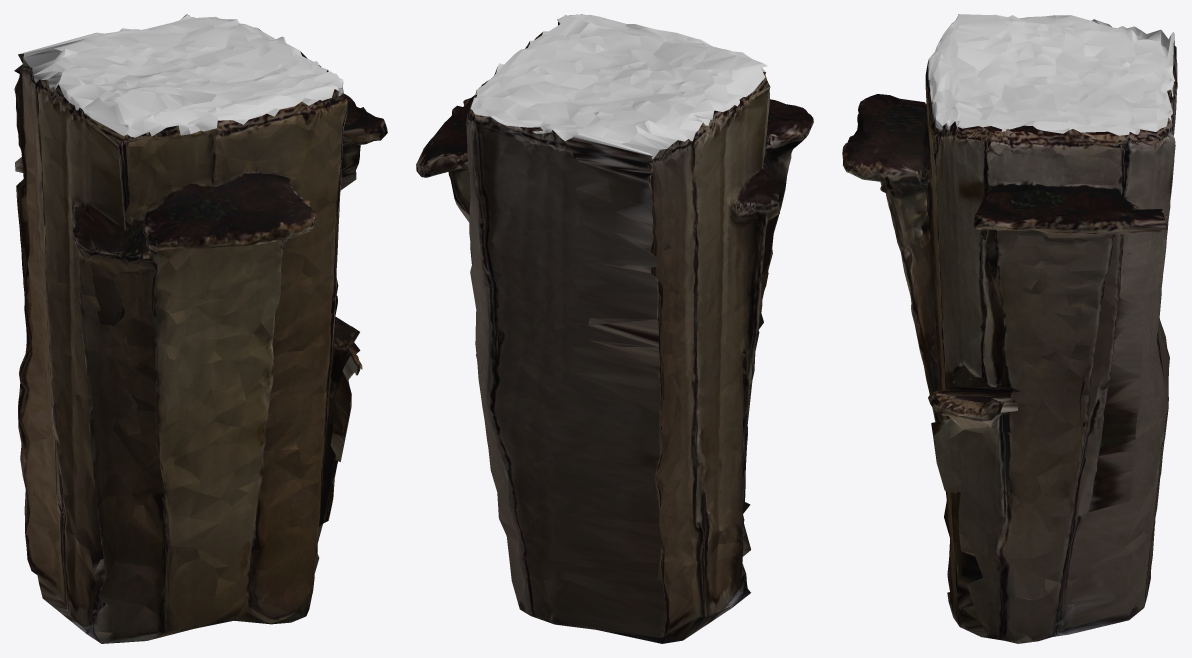
Rendered from ourTower.fbx.
3 views of the same model, side by side, from view 1: azimuth 30°, elevation 25°; view 2: azimuth 150°, elevation 25°; view 3: azimuth 270°, elevation 25° (orthographic). The views are drawn at different scales.
Visible parts, largest first — view 1: tower; view 2: tower; view 3: tower.
Boxes of the visible parts, x1,y1,x2,y2 form: tower: [14, 14, 387, 643]; tower: [416, 14, 813, 643]; tower: [842, 14, 1177, 643].
Size of the model in its own units: 0.3522 by 0.6025 by 0.3414.
